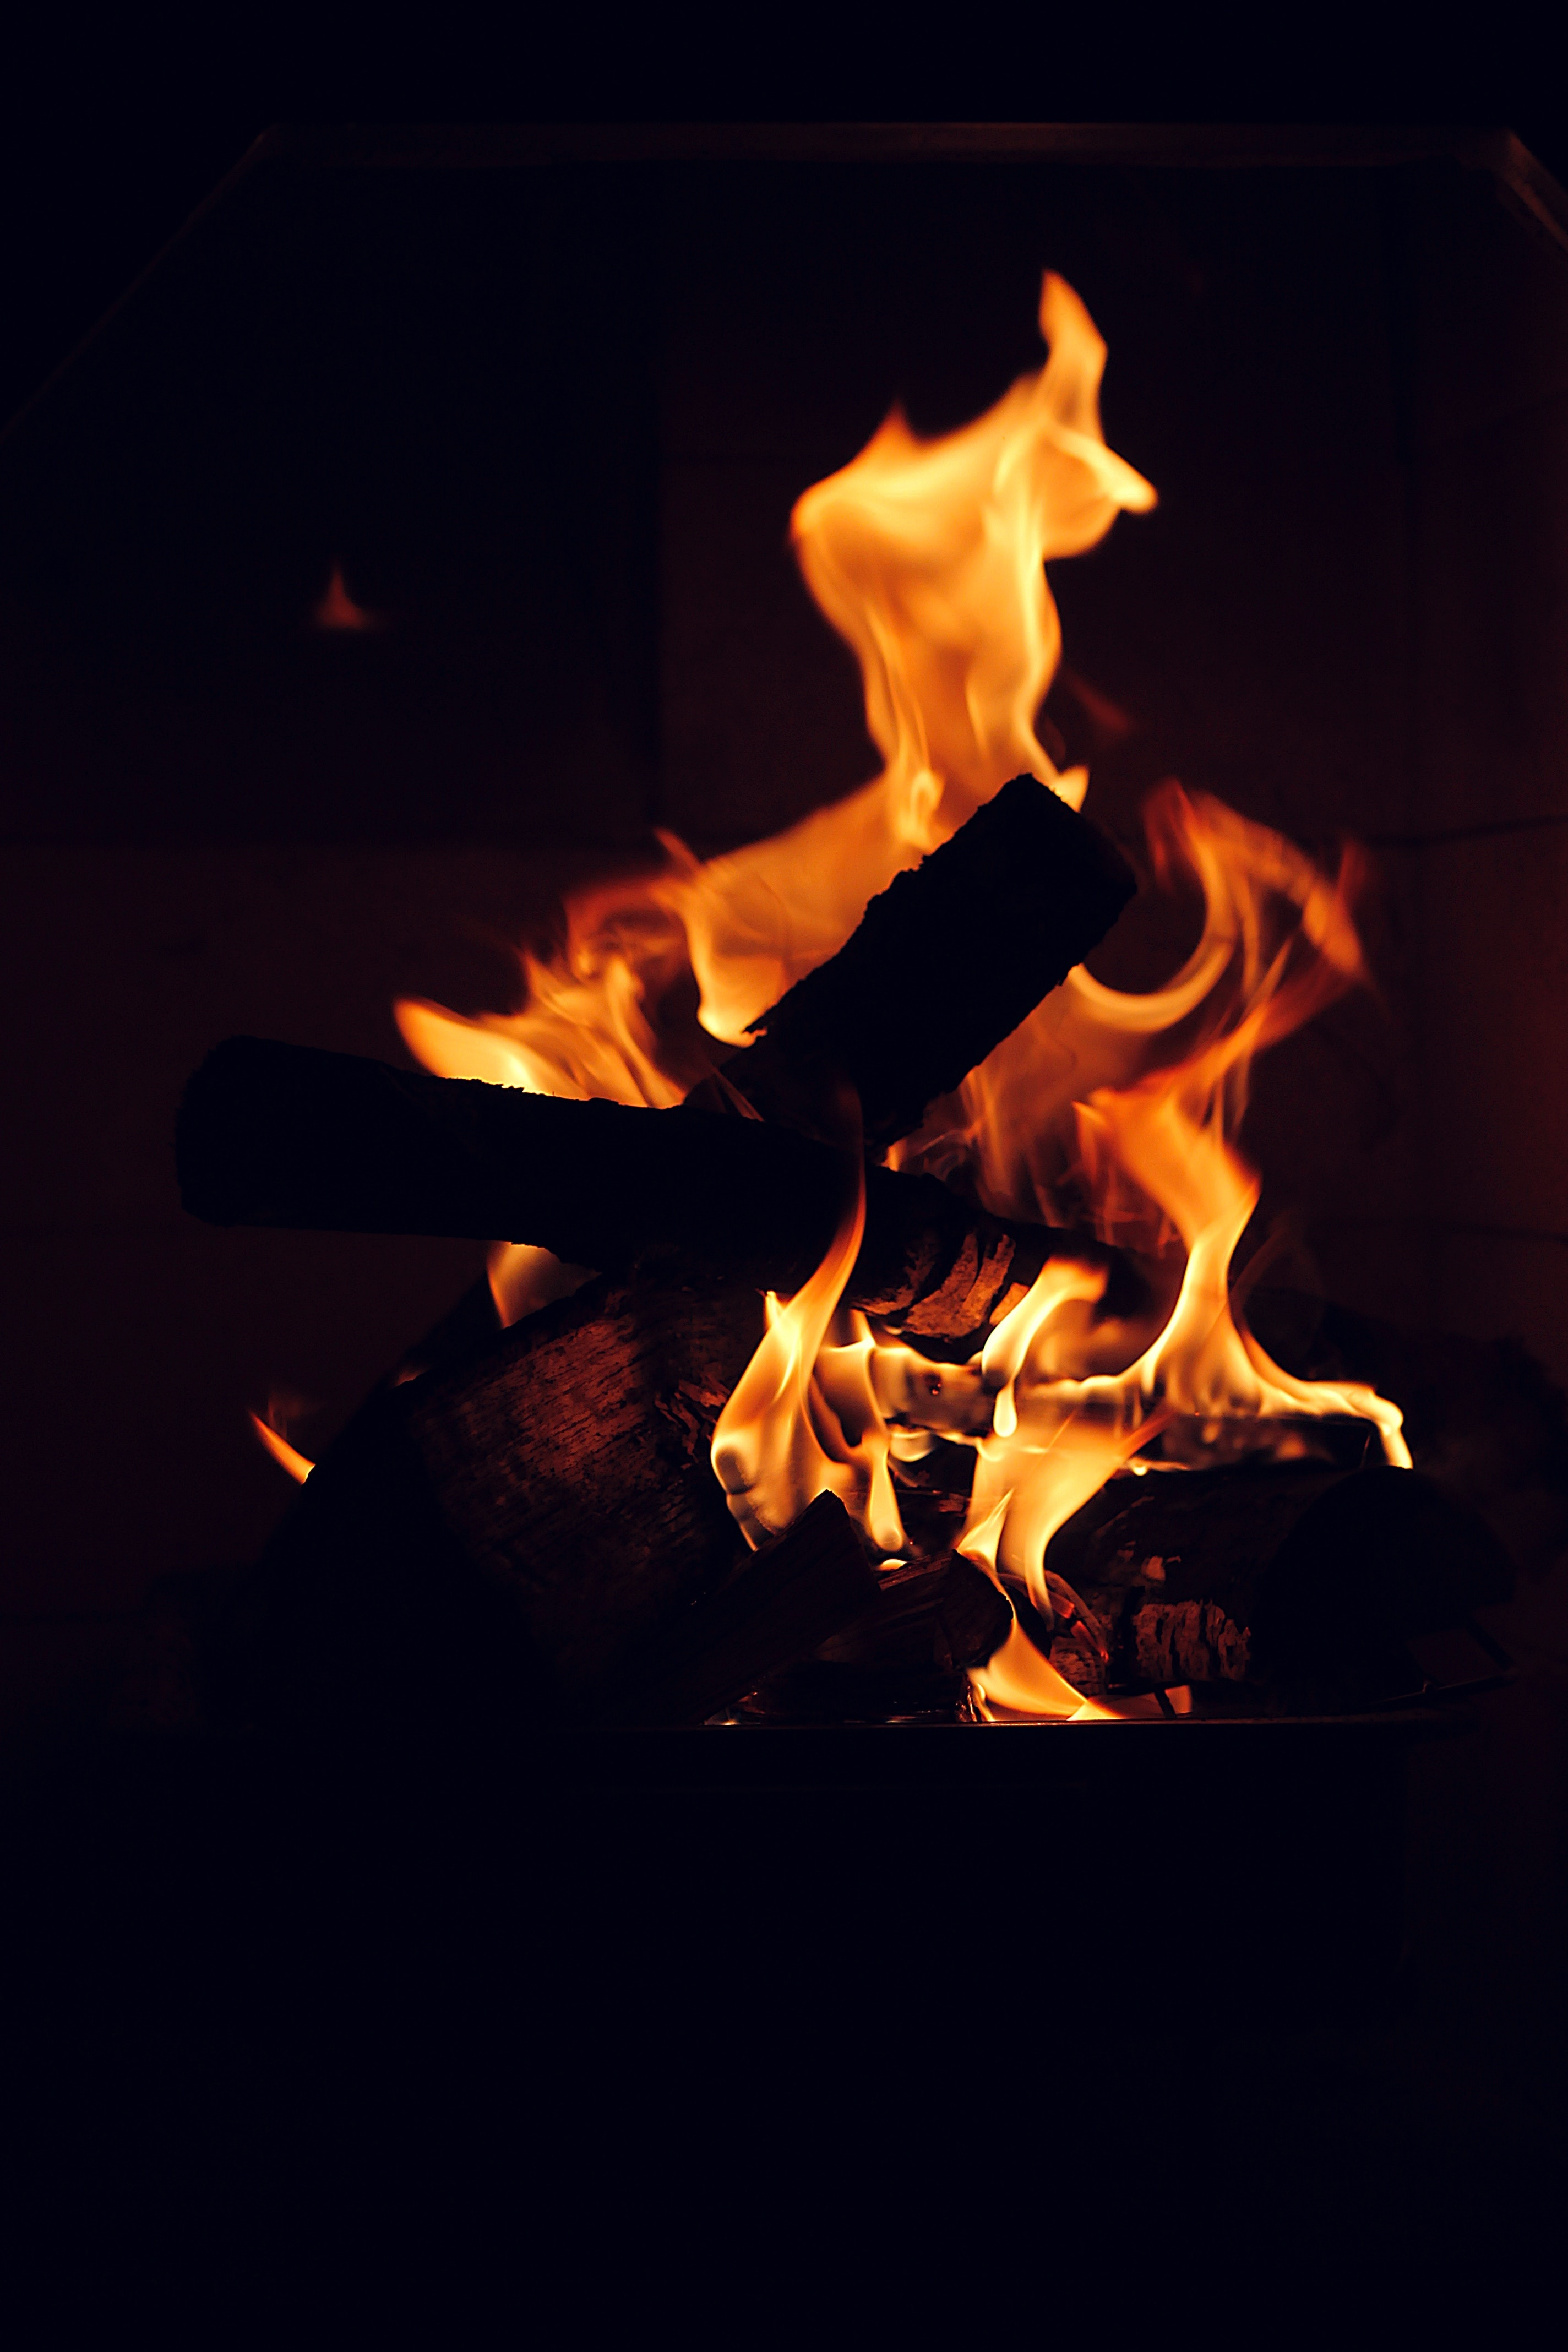fire: (369, 287, 1438, 1708)
